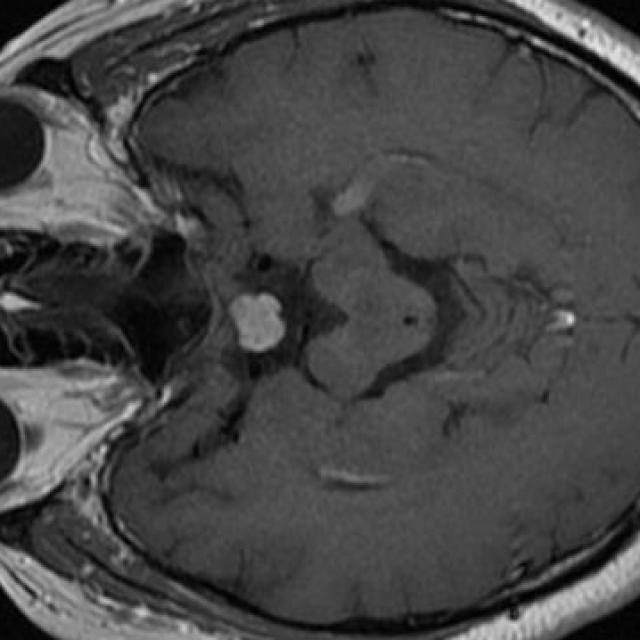pituitary: (228, 296, 285, 355)
